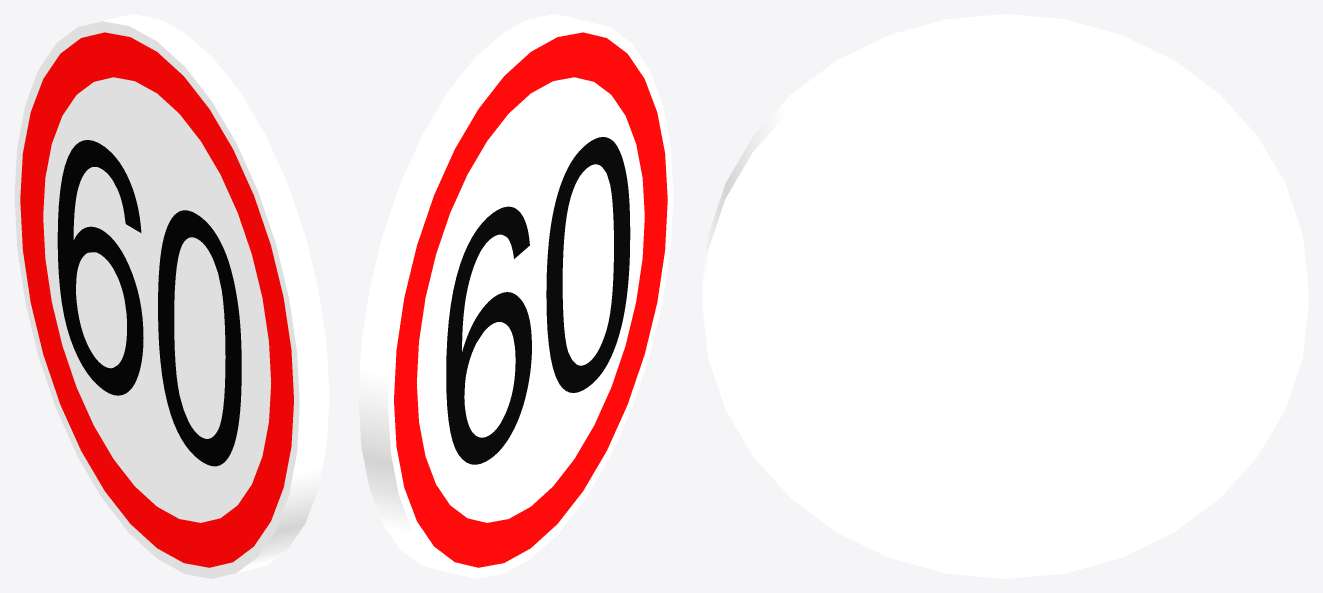
The model's file is Speed_Limit_60.glb.
The picture shows the model from 3 angles, left to right: view 1: azimuth 30°, elevation 25°; view 2: azimuth 150°, elevation 25°; view 3: azimuth 270°, elevation 25°; orthographic projection. The views are drawn at different scales.
Visible parts, largest first — view 1: Speed_Limit_60; view 2: Speed_Limit_60; view 3: Speed_Limit_60.
Part boxes in pixels (box(x1,y1,x2,y2)): Speed_Limit_60: box(14, 14, 329, 578); Speed_Limit_60: box(358, 14, 673, 578); Speed_Limit_60: box(702, 14, 1308, 578).
Bounding box in the file's own units: 0.075 × 1 × 1.
